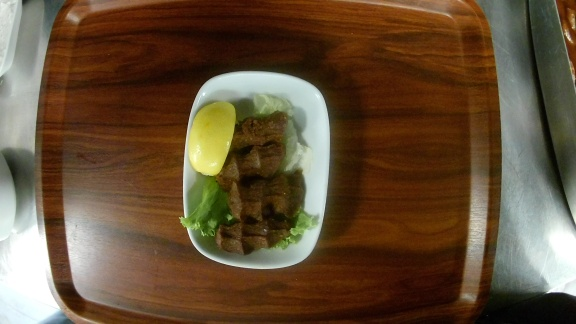cigkofte: (182, 70, 331, 270)
